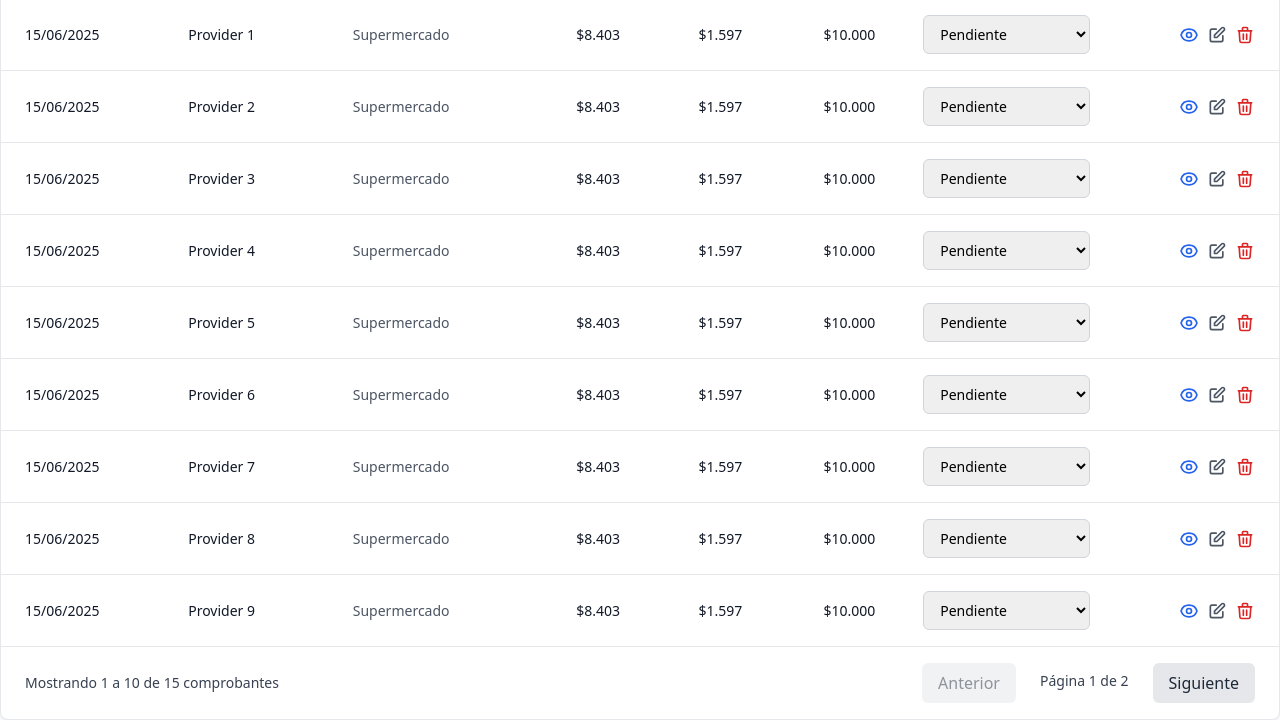
Test case: InvoiceTable › navigates to next page when next button is clicked
(page scrolled)
Click the button "Siguiente" at (1204, 683), box x1=1152 y1=663 x2=1255 y2=703
(page scrolled)
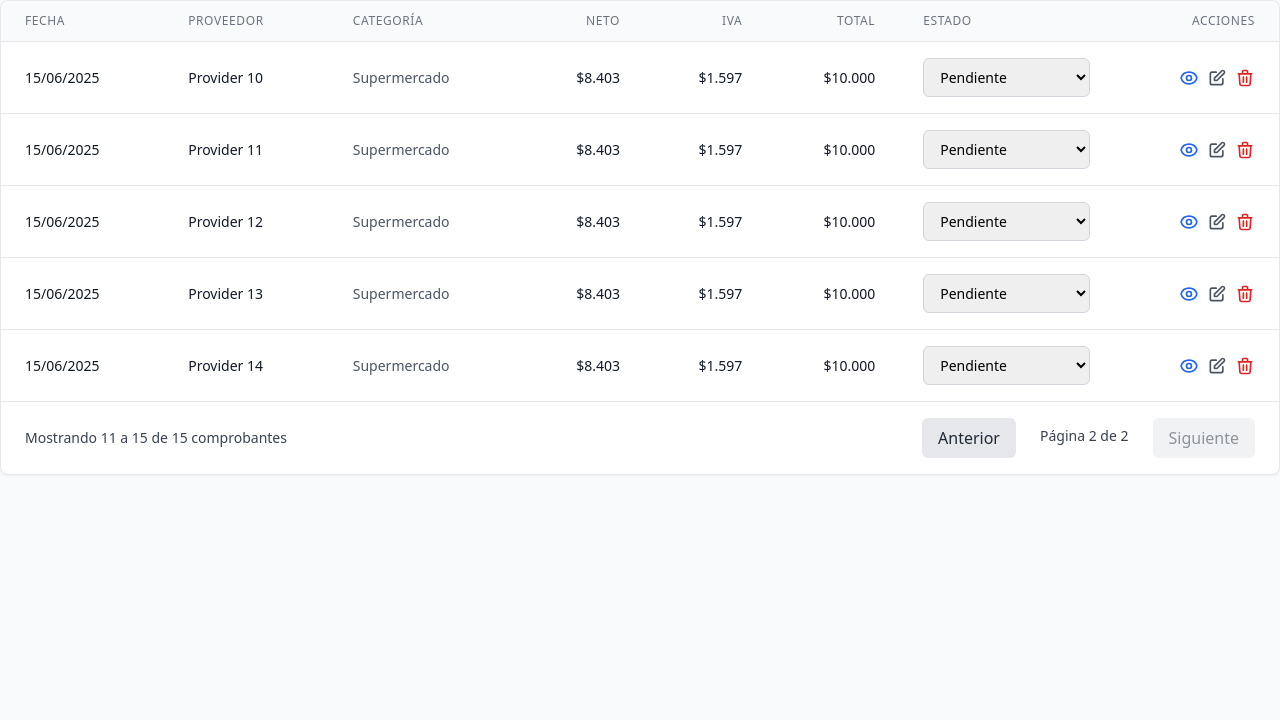
Now the text "Página 2 de 2" is shown, box x1=1040 y1=426 x2=1128 y2=445
